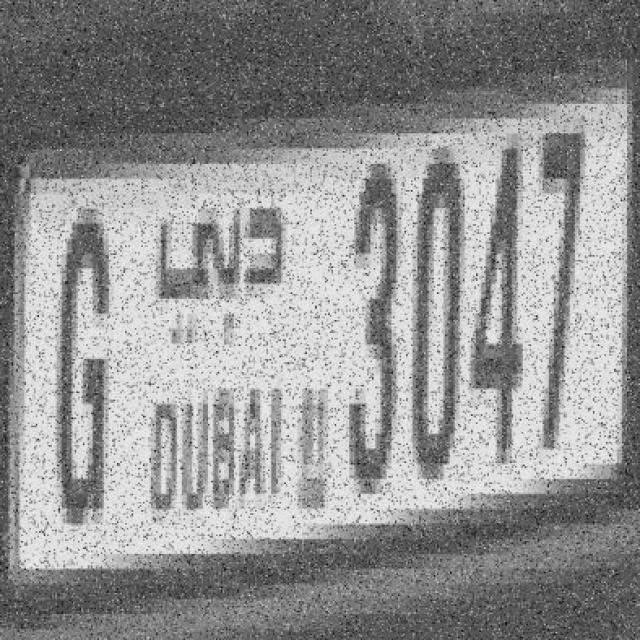licenseplate: (0, 31, 640, 638)
